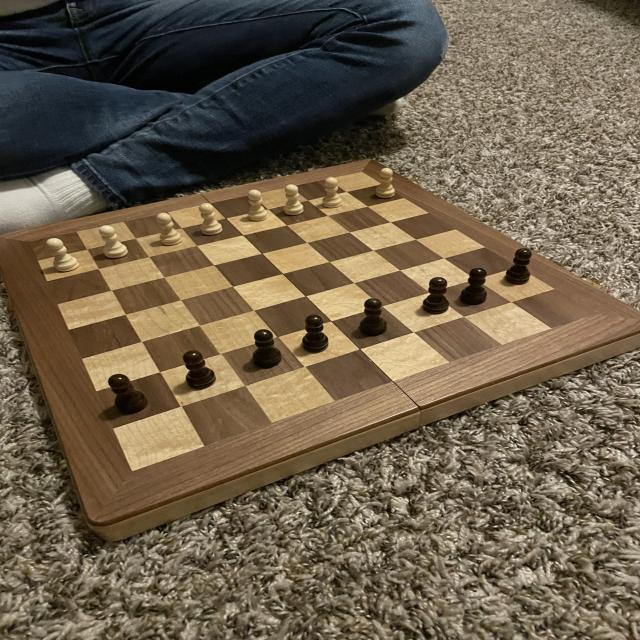black-knight: (104, 372, 151, 420), (180, 349, 218, 395), (250, 327, 285, 375), (357, 296, 391, 341), (298, 314, 331, 356), (421, 276, 454, 318), (458, 268, 493, 307), (503, 246, 532, 288)
white-knight: (45, 234, 83, 274), (97, 222, 130, 262), (196, 201, 225, 239), (154, 212, 184, 248), (243, 188, 271, 223), (372, 165, 398, 201), (280, 185, 306, 218), (321, 176, 343, 210)
